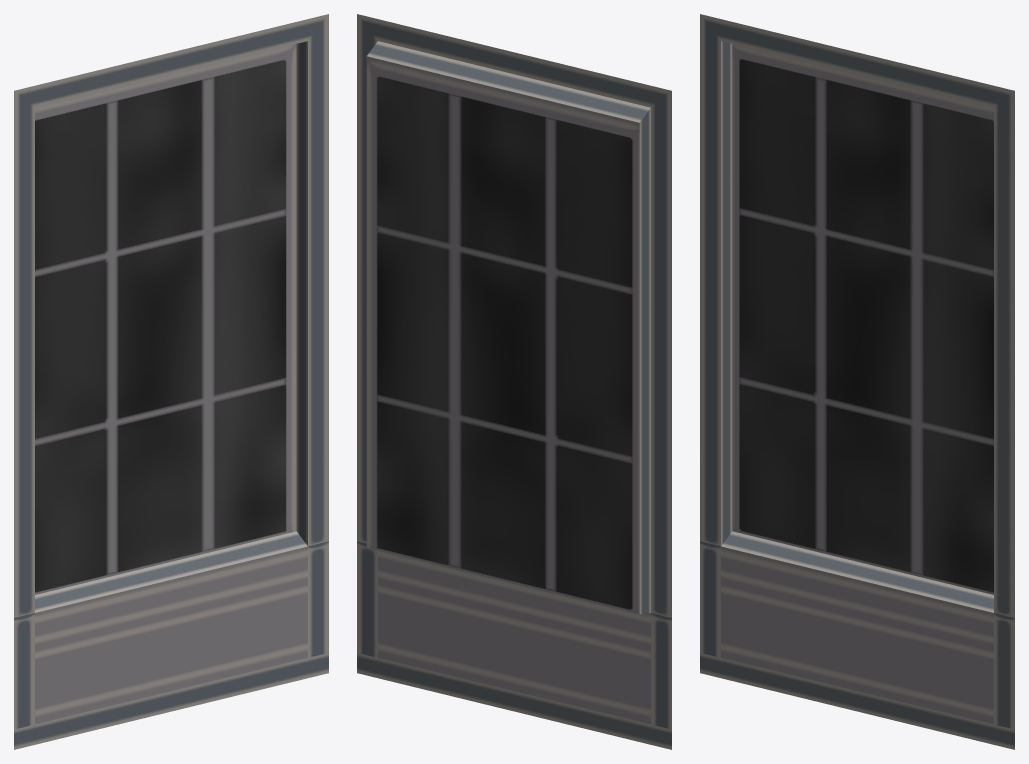
Rendered from SM_ENV_K1_DOOR_01.fbx.
3 renders of one model, left to right at view 1: azimuth 30°, elevation 25°; view 2: azimuth 150°, elevation 25°; view 3: azimuth 330°, elevation 25°, orthographic.
Parts seen in each view (by area): view 1: SM_ENV_K1_DOOR_01; view 2: SM_ENV_K1_DOOR_01; view 3: SM_ENV_K1_DOOR_01.
Part boxes in pixels (bbox=[...]): SM_ENV_K1_DOOR_01: bbox=[14, 14, 328, 749]; SM_ENV_K1_DOOR_01: bbox=[357, 14, 671, 749]; SM_ENV_K1_DOOR_01: bbox=[700, 14, 1014, 749].
Size of the model in its own units: 1.2 by 2.4 by 0.075.
